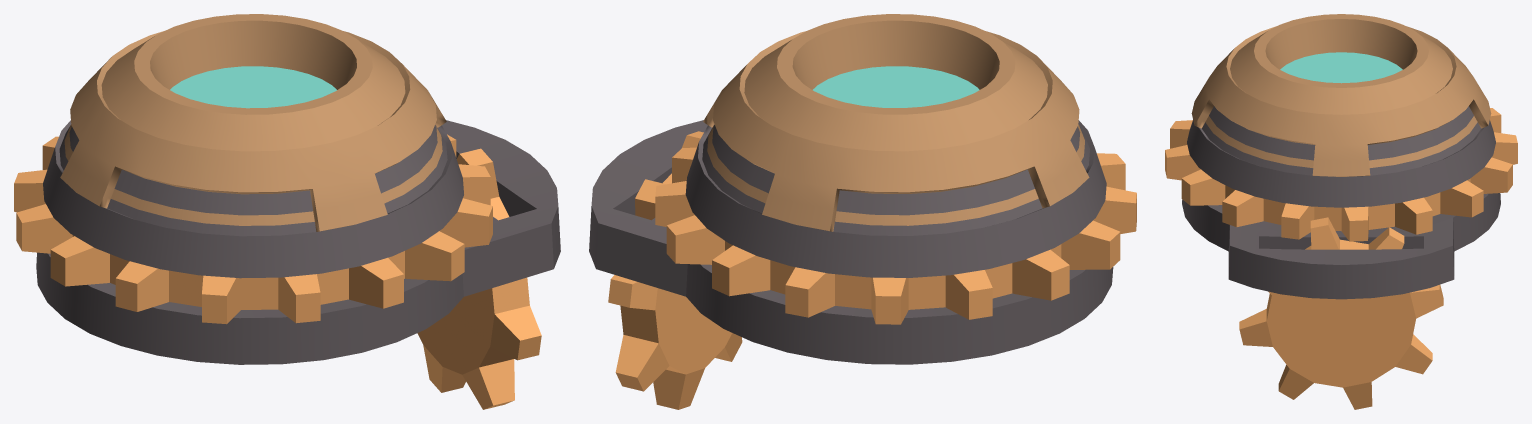
The model's file is STurret2.fbx.
3 views of the same model, side by side, from view 1: azimuth 30°, elevation 25°; view 2: azimuth 150°, elevation 25°; view 3: azimuth 270°, elevation 25° (orthographic). The views are drawn at different scales.
Parts seen in each view (by area): view 1: STurret2_Base, STurret2_Lcog, STurret2_Scog; view 2: STurret2_Base, STurret2_Lcog, STurret2_Scog; view 3: STurret2_Base, STurret2_Scog, STurret2_Lcog.
Part boxes in pixels (box(x1,y1,x2,y2)): STurret2_Base: box(36, 14, 560, 364); STurret2_Lcog: box(14, 134, 492, 324); STurret2_Scog: box(417, 148, 541, 409); STurret2_Base: box(589, 14, 1113, 364); STurret2_Lcog: box(655, 147, 1136, 324); STurret2_Scog: box(608, 131, 742, 409); STurret2_Base: box(1182, 14, 1500, 299); STurret2_Scog: box(1239, 217, 1443, 409); STurret2_Lcog: box(1165, 108, 1517, 241).
Size of the model in its own units: 116 by 87.33 by 99.41.
